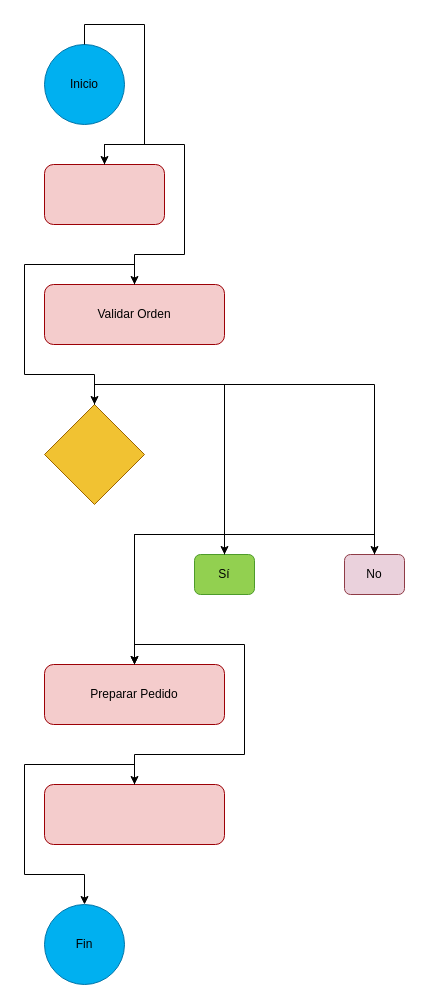
Some shapes in this 422 by 1002 pixel diagram are drawn without their labels. Here are the shapes that lost their labels. From the top down, the centre of each, then its label:
At pixel 104 194: "Orden del Cliente".
At pixel 94 454: "¿Orden válida?".
At pixel 134 814: "Confirmar Envío al Cliente".
